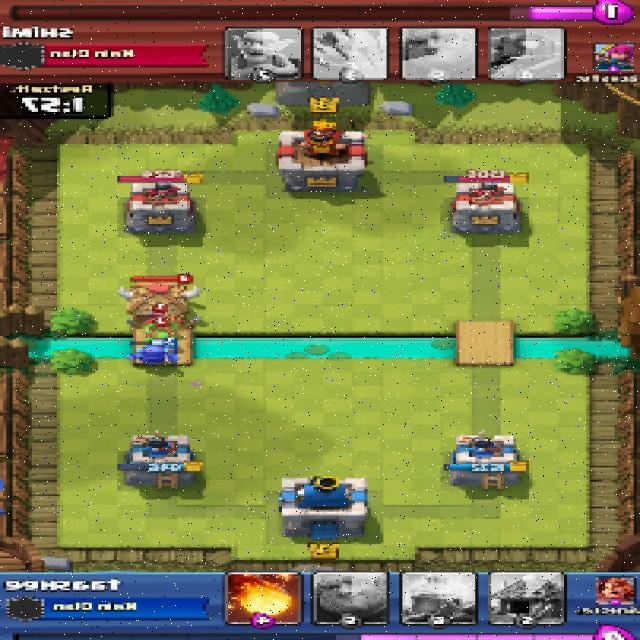Enemy-GoblinHut: (118, 283, 203, 327)
Enemy-SpearGoblin: (144, 318, 187, 335), (148, 331, 184, 348)
Player-MiniPEKKA: (131, 344, 179, 366)
